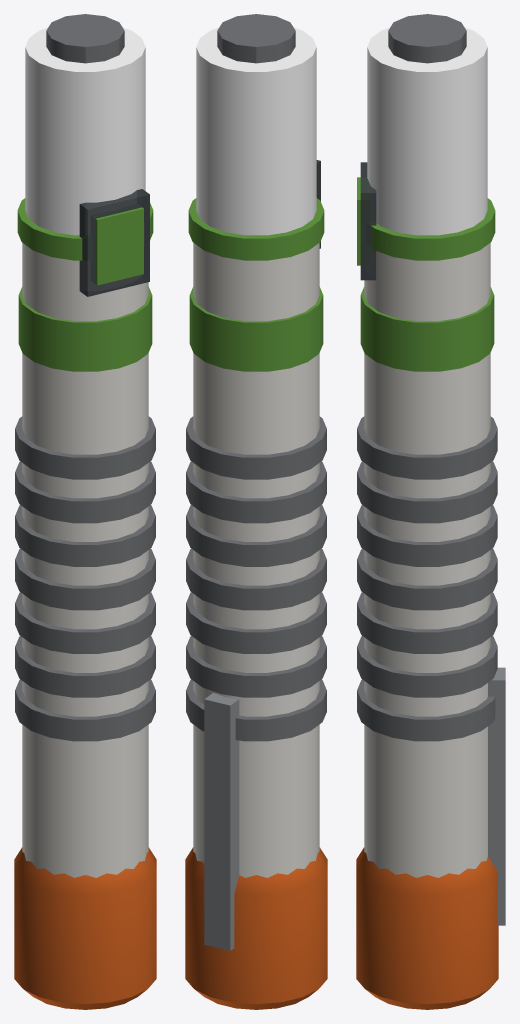
File: eqp_leech_ampule.glb
The picture shows the model from 3 angles, left to right: view 1: azimuth 30°, elevation 25°; view 2: azimuth 150°, elevation 25°; view 3: azimuth 270°, elevation 25°; orthographic projection.
Parts seen in each view (by area): view 1: Body, Serum; view 2: Body; view 3: Body.
Part boxes in pixels (x1,y1,x2,y2): Body: [14, 14, 156, 1009]; Serum: [95, 207, 143, 285]; Body: [185, 14, 327, 1009]; Body: [356, 14, 505, 1009].
Size of the model in its own units: 0.024 by 0.175 by 0.0248.
